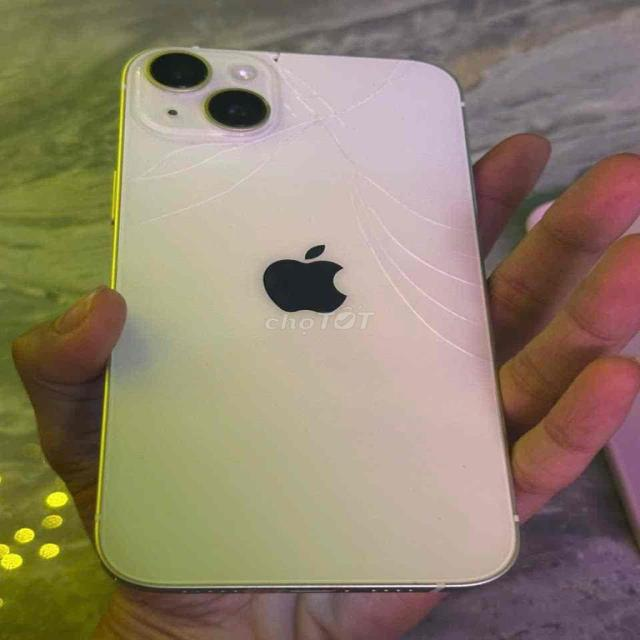physical_damage: (91, 44, 520, 596), (282, 63, 345, 134), (364, 230, 405, 276), (433, 331, 491, 363), (344, 188, 381, 229), (426, 262, 485, 287), (330, 132, 364, 169), (384, 276, 425, 306), (132, 151, 177, 176), (380, 60, 418, 84), (348, 86, 385, 110), (443, 304, 479, 324), (360, 171, 386, 192), (431, 220, 476, 232), (410, 307, 432, 328), (211, 143, 242, 157), (182, 156, 218, 168), (387, 190, 406, 212), (277, 136, 303, 152), (242, 132, 275, 143), (406, 207, 432, 220), (254, 156, 278, 170), (178, 141, 205, 153), (406, 248, 424, 264), (238, 172, 260, 185), (216, 186, 242, 196), (428, 293, 441, 307), (180, 203, 202, 211), (200, 195, 218, 203), (159, 212, 182, 218), (136, 218, 156, 224)
scratch: (268, 50, 280, 63)
